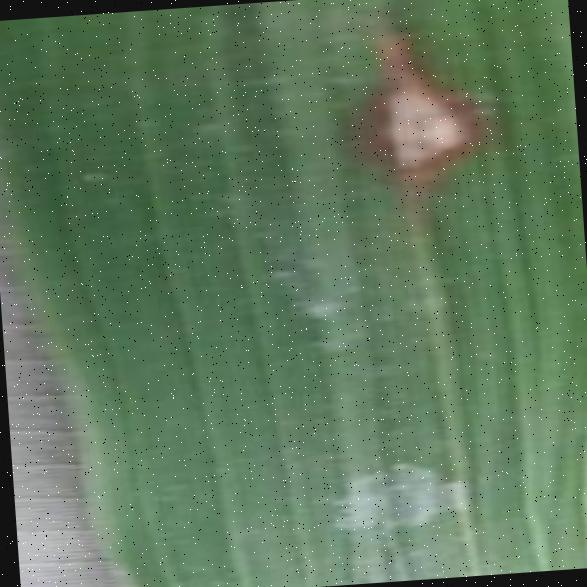Leaf_smut: (341, 9, 501, 211)
